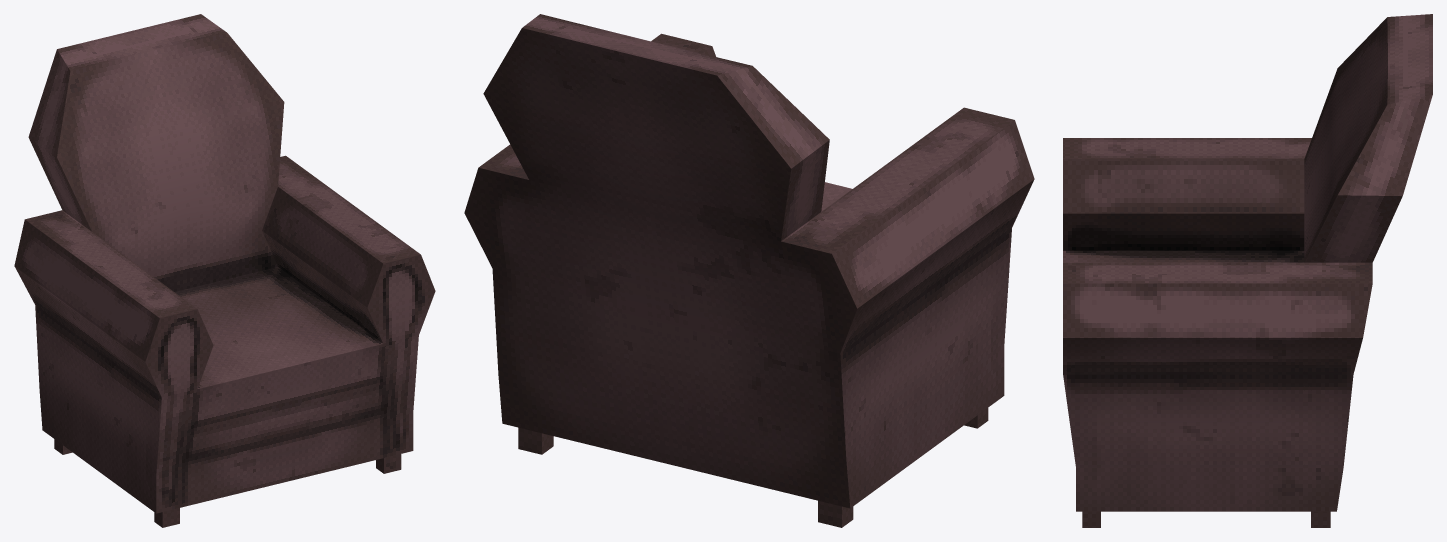
Rendered from psx_armchair.glb.
3 renders of one model, left to right at view 1: azimuth 30°, elevation 25°; view 2: azimuth 150°, elevation 25°; view 3: azimuth 270°, elevation 25°, orthographic. The views are drawn at different scales.
Visible parts, largest first — view 1: SM_Armchair_0; view 2: SM_Armchair_0; view 3: SM_Armchair_0.
Boxes of the visible parts, <box> form: SM_Armchair_0: <box>14,14,435,527</box>; SM_Armchair_0: <box>464,14,1034,527</box>; SM_Armchair_0: <box>1063,14,1432,527</box>.
Bounding box in the file's own units: 1.2 × 1.41 × 1.16.
Materials: 1 (1 with a texture image).
